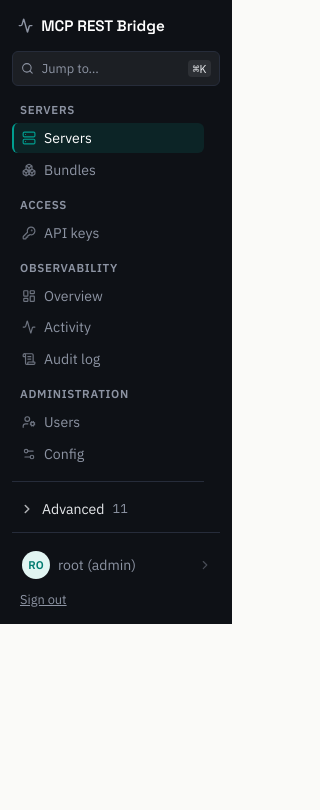
Scenario: TheSidebar progressive disclosure › flips aria-expanded and reveals the advanced entries when toggled
Click the button with class "nav-advanced-toggle" at {"x": 108, "y": 509}, box [12,494,204,524]
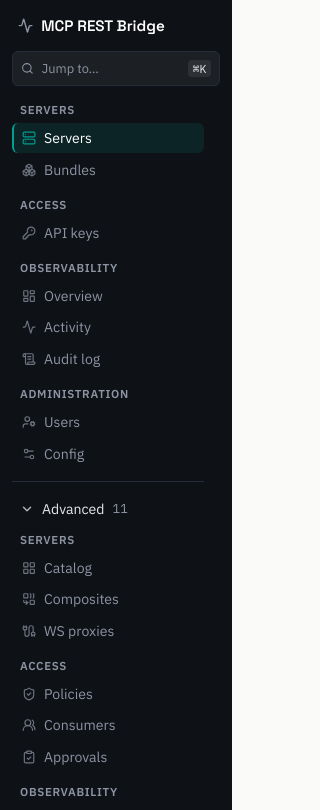
Expected: the button with class "nav-advanced-toggle" is expanded, [12,494,204,524]
